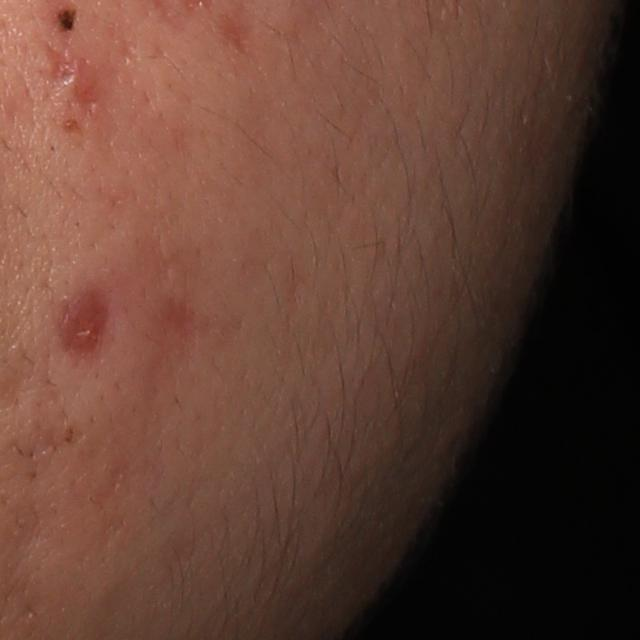atrophic_scar: (47, 49, 73, 88)
nevus: (50, 2, 81, 35)
